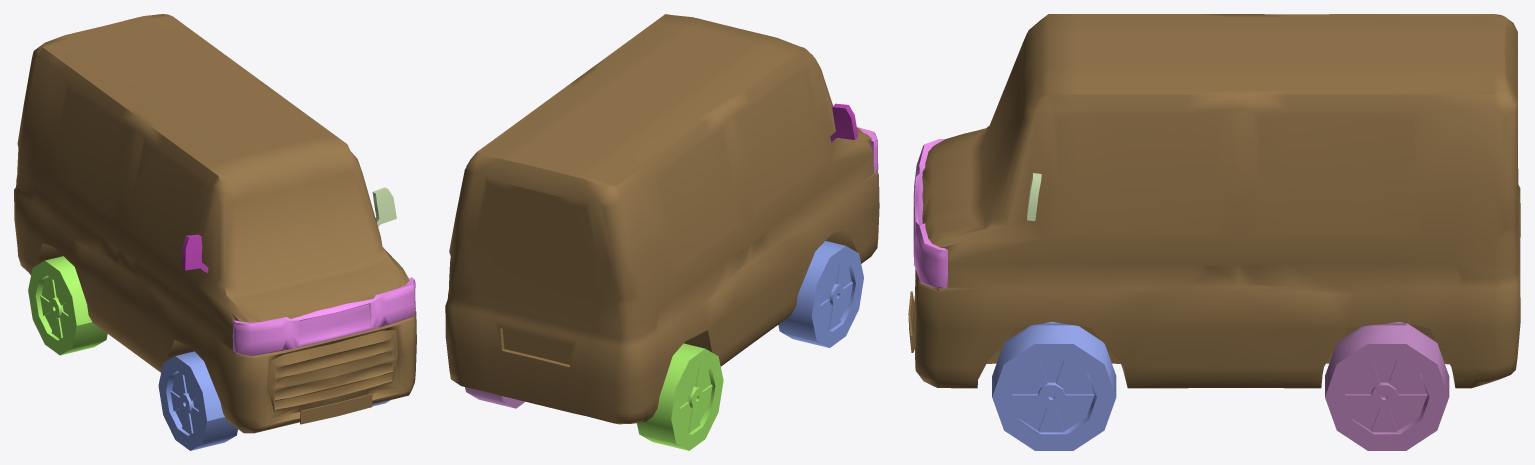
3 renders of one model, left to right at view 1: azimuth 30°, elevation 25°; view 2: azimuth 150°, elevation 25°; view 3: azimuth 270°, elevation 25°, orthographic. The views are drawn at different scales.
Visible parts, largest first — view 1: Object_4, Object_6, split_parent_5, split_parent_6, Object_8.026, Object_8; view 2: Object_4, split_parent_5, split_parent_6, Object_8.026, split_parent_3; view 3: Object_4, split_parent_4, split_parent_3, Object_6.
Boxes of the visible parts, x1,y1,x2,y2 form: Object_4: (14, 14, 416, 433); Object_6: (232, 277, 415, 355); split_parent_5: (158, 351, 237, 450); split_parent_6: (28, 256, 107, 355); Object_8.026: (182, 234, 208, 273); Object_8: (372, 187, 396, 227); Object_4: (445, 14, 879, 424); split_parent_5: (778, 241, 863, 347); split_parent_6: (637, 343, 723, 450); Object_8.026: (830, 103, 858, 142); split_parent_3: (465, 387, 525, 408); Object_4: (908, 14, 1520, 388); split_parent_4: (992, 322, 1116, 450); split_parent_3: (1325, 322, 1449, 450); Object_6: (913, 139, 947, 288).
Size of the model in its own units: 0.5101 by 0.613 by 1.
